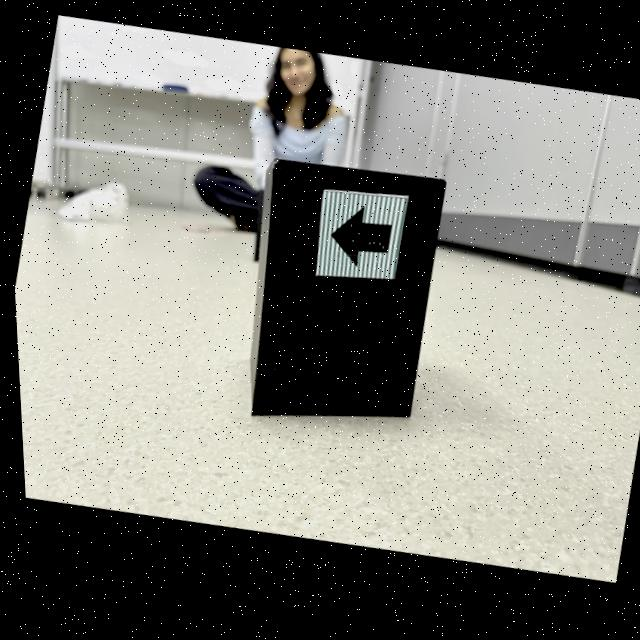LEFT: (328, 211, 388, 269)
